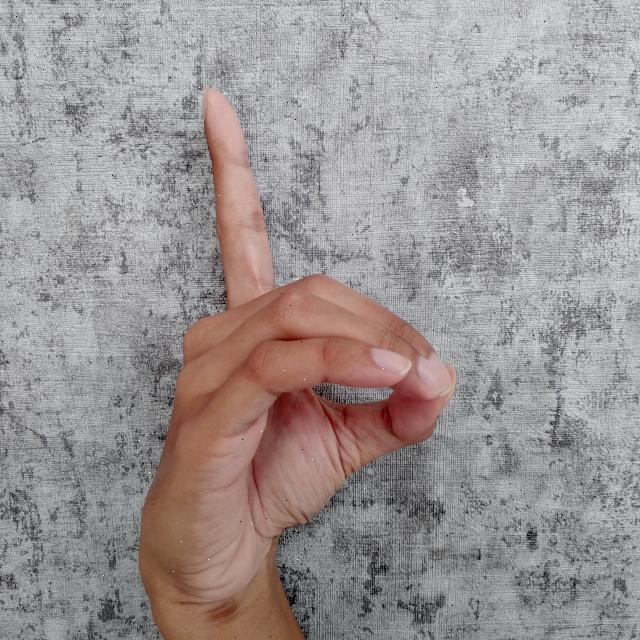D: (138, 84, 458, 640)
